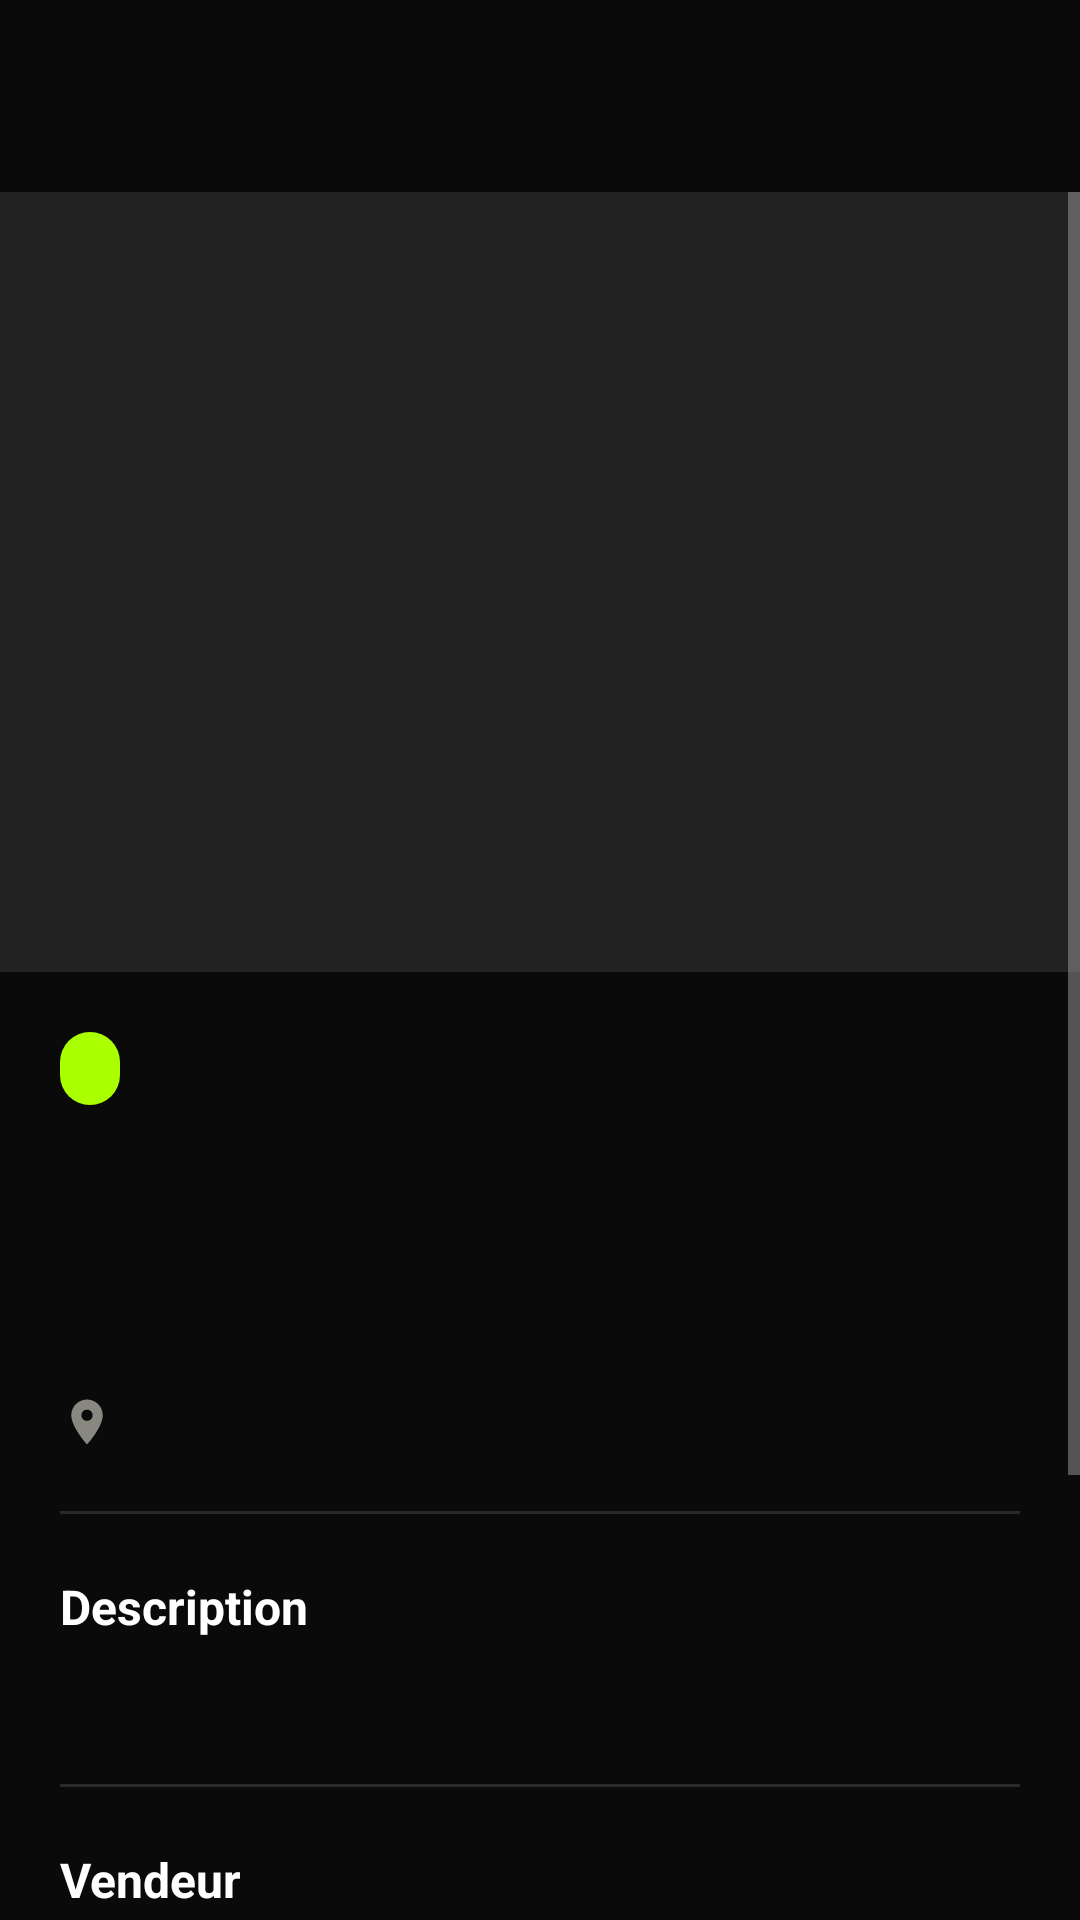

Where icons sit on this 1080px×1920px app screen, as [x1,y1,x2,y2]:
location: [71,1399,103,1444]
